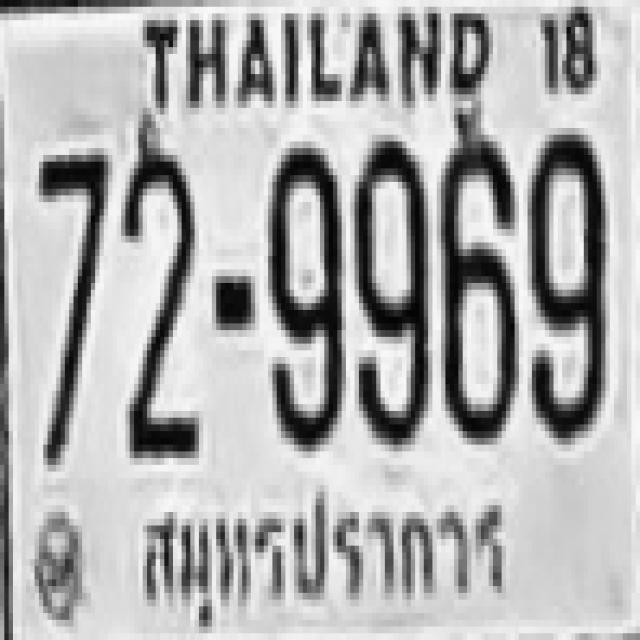2: (121, 145, 195, 448)
6: (436, 128, 514, 438)
7: (34, 148, 104, 458)
9: (264, 142, 342, 444), (350, 135, 424, 438), (528, 132, 601, 434)
SamutPrakan: (128, 490, 521, 622)
